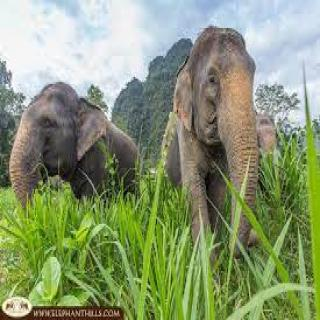Elephant: (159, 19, 269, 266), (8, 78, 147, 225)
